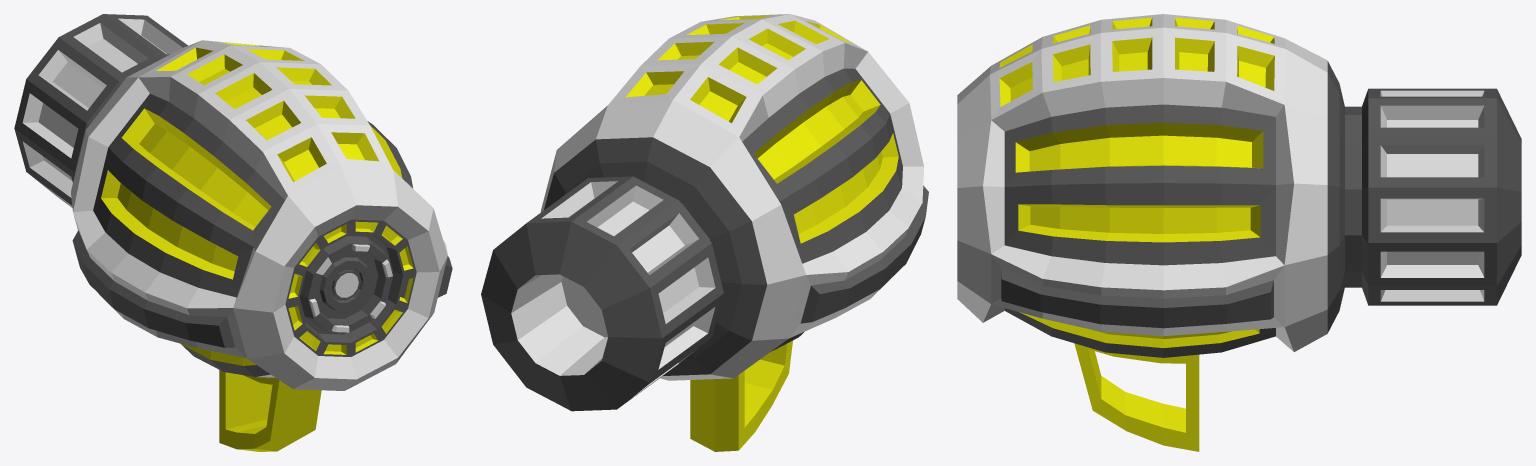
Rendered from tower8_1.fbx.
3 renders of one model, left to right at view 1: azimuth 30°, elevation 25°; view 2: azimuth 150°, elevation 25°; view 3: azimuth 270°, elevation 25°, orthographic. The views are drawn at different scales.
Parts seen in each view (by area): view 1: polySurface51; view 2: polySurface51; view 3: polySurface51.
Part boxes in pixels (left/top/right/bottom): polySurface51: left=14, top=14, right=452, bottom=451; polySurface51: left=481, top=14, right=928, bottom=451; polySurface51: left=957, top=14, right=1521, bottom=451.
Size of the model in its own units: 0.4634 by 0.5793 by 0.7056.
